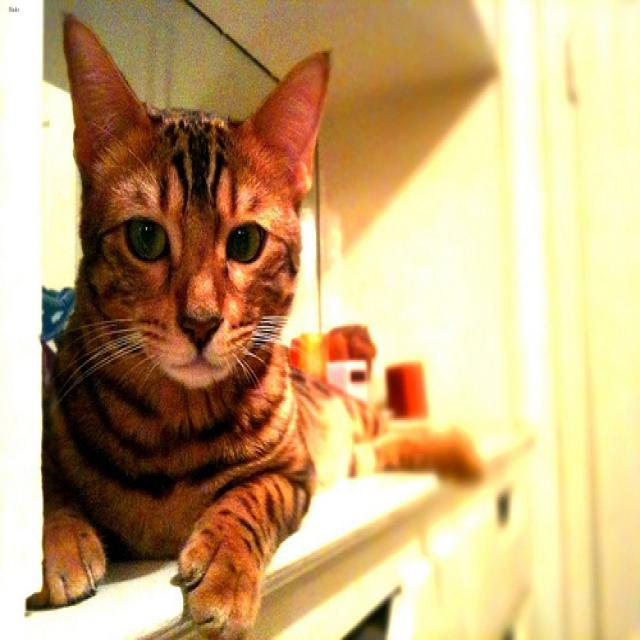Bengal: (54, 7, 335, 393)
